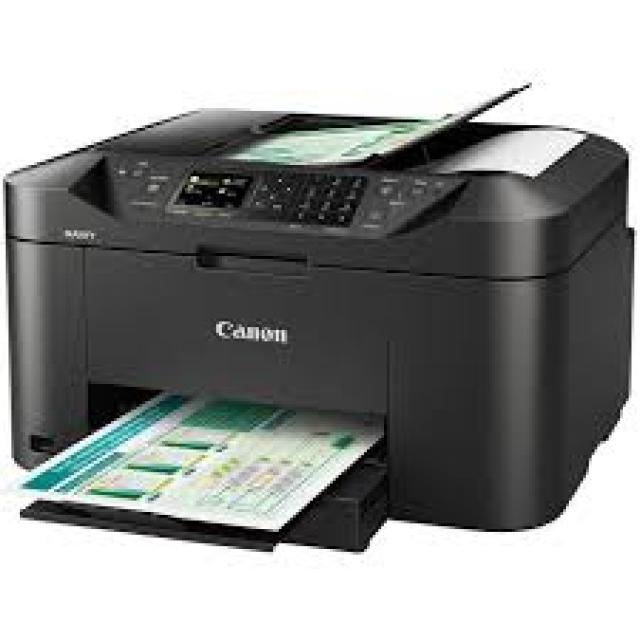printer: (0, 85, 634, 551)
